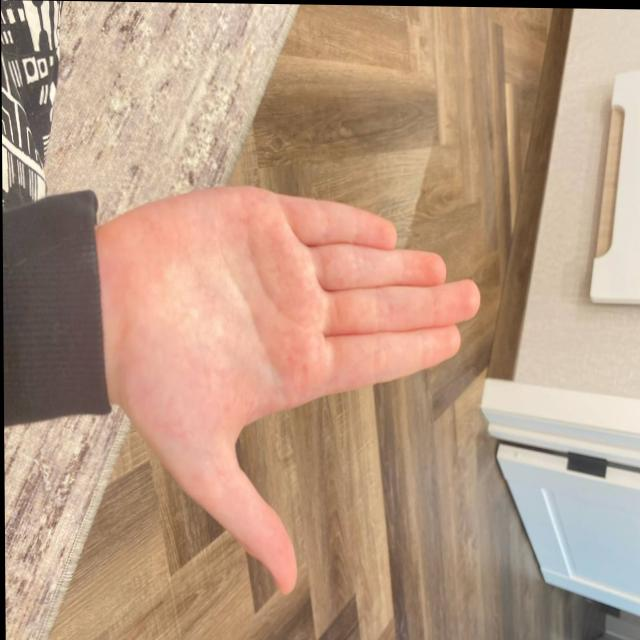v: (141, 173, 485, 595)
